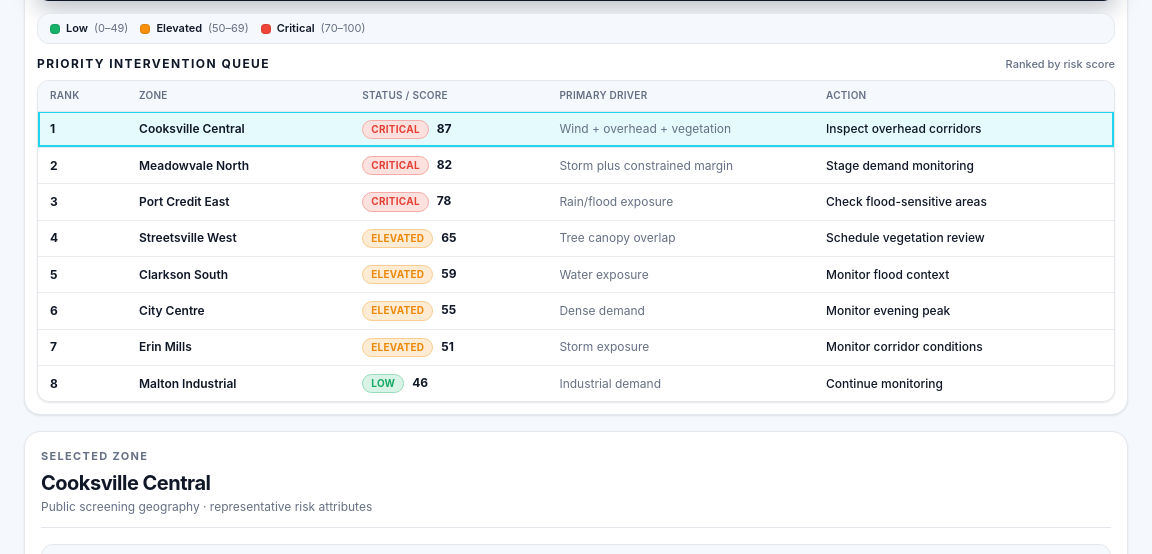
Test: App integration (recording layout) › selects zone from intervention queue beneath the map
(page scrolled)
Step 1. Click the button with aria-label "3. Port Credit East" → click(576, 202), box [38,184,1114,220]
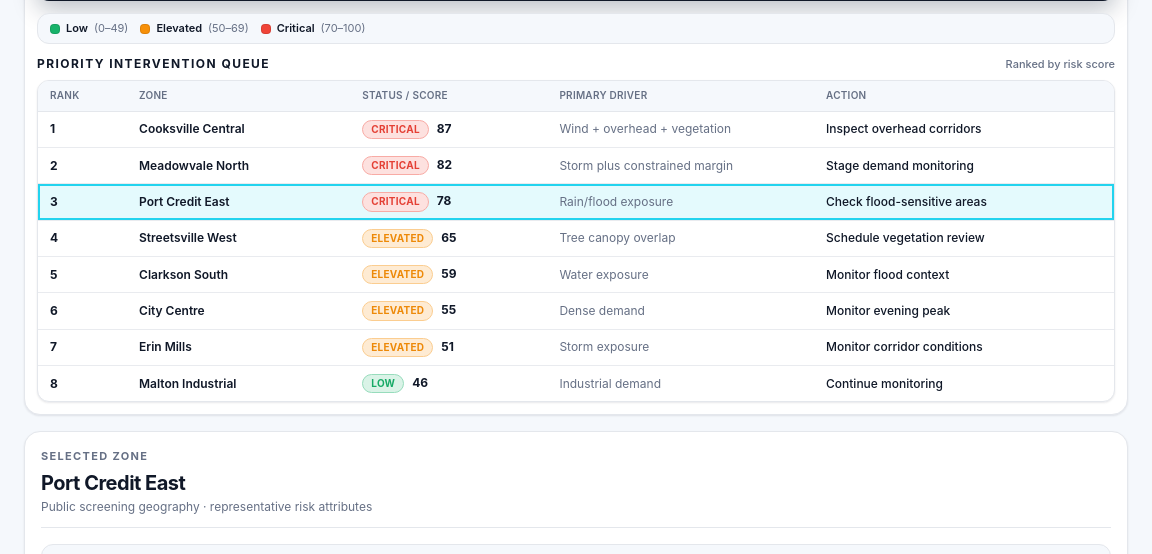
Expected: the heading "Port Credit East" is shown, [41,471,185,495]
